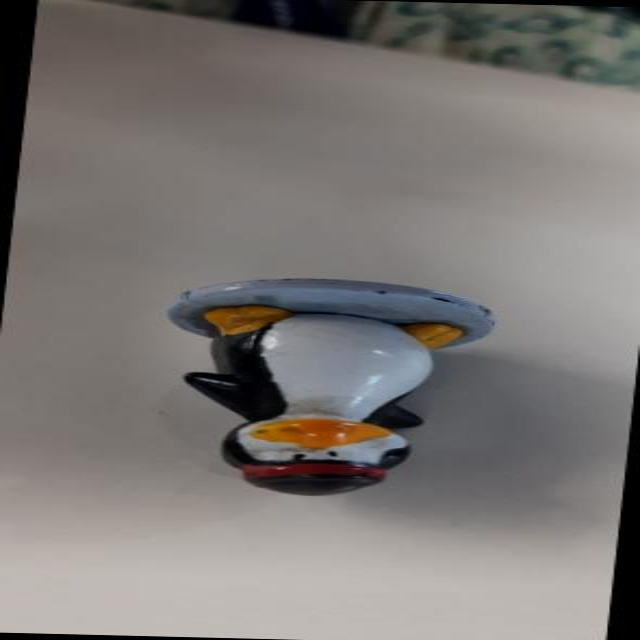Penguin: (117, 241, 525, 523)
